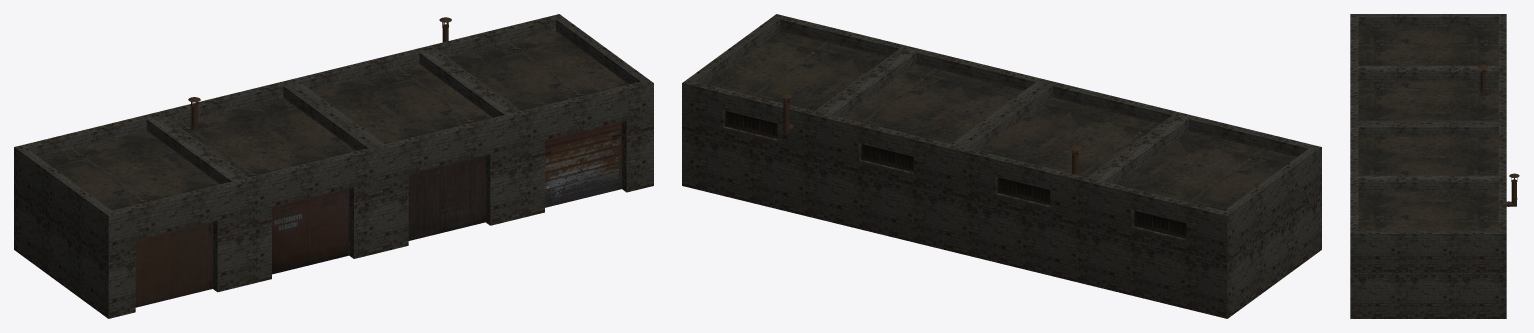
The model's file is garages_block_hr_1.obj.
3 views of the same model, side by side, from view 1: azimuth 30°, elevation 25°; view 2: azimuth 150°, elevation 25°; view 3: azimuth 270°, elevation 25° (orthographic). The views are drawn at different scales.
Visible parts, largest first — view 1: garages_block_hr_1; view 2: garages_block_hr_1; view 3: garages_block_hr_1.
Part boxes in pixels (x1,y1,x2,y2): garages_block_hr_1: [14, 14, 653, 318]; garages_block_hr_1: [682, 14, 1321, 318]; garages_block_hr_1: [1350, 14, 1519, 318].
Size of the model in its own units: 20 by 4.3 by 6.5.
